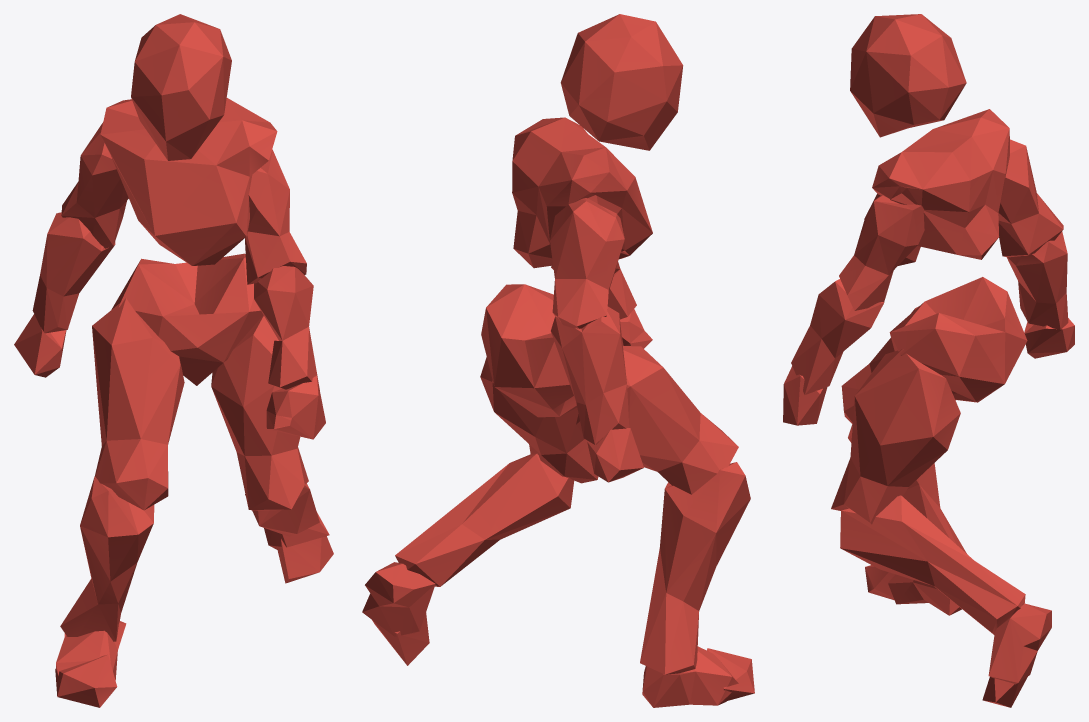
Rendered from 2dancer0181.obj.
The picture shows the model from 3 angles, left to right: view 1: azimuth 30°, elevation 25°; view 2: azimuth 150°, elevation 25°; view 3: azimuth 270°, elevation 25°; orthographic projection. The views are drawn at different scales.
Visible parts, largest first — view 1: Beta_Surface; view 2: Beta_Surface; view 3: Beta_Surface.
Boxes of the visible parts, x1=… form: Beta_Surface: x1=14, y1=14, x2=333, y2=707; Beta_Surface: x1=362, y1=14, x2=754, y2=707; Beta_Surface: x1=783, y1=14, x2=1074, y2=707.
Size of the model in its own units: 0.8891 by 1.69 by 0.7113.
